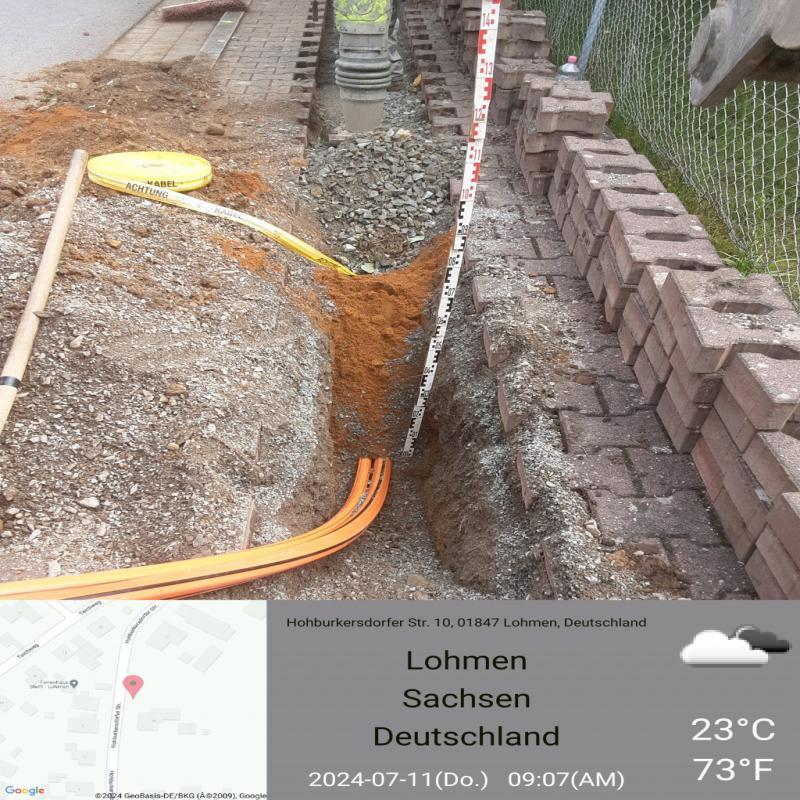Orang-Speednetrohrchen: (1, 459, 390, 599)
